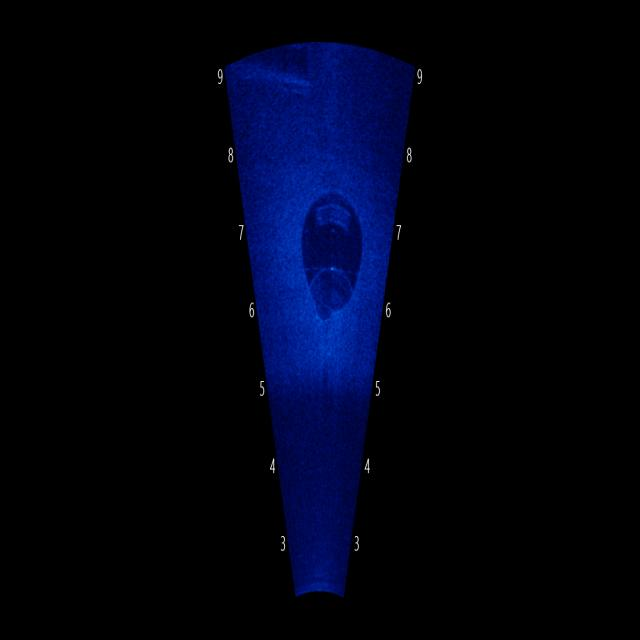circle: (295, 170, 373, 324)
